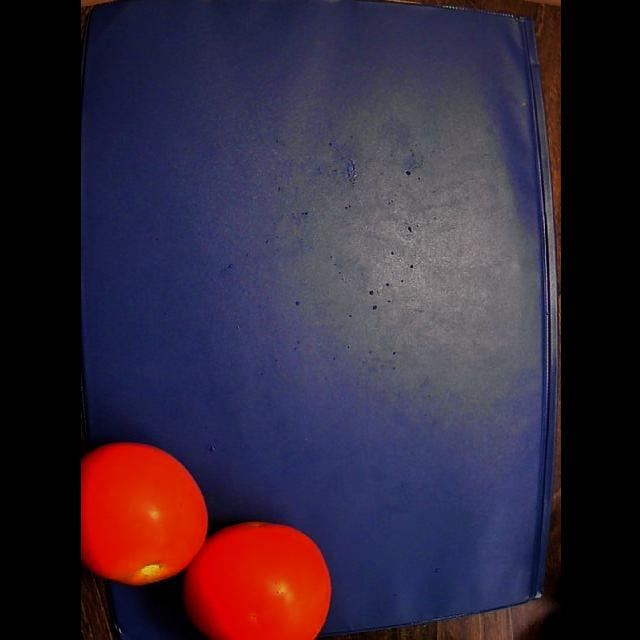tomate: (81, 443, 207, 585), (184, 521, 330, 639)
